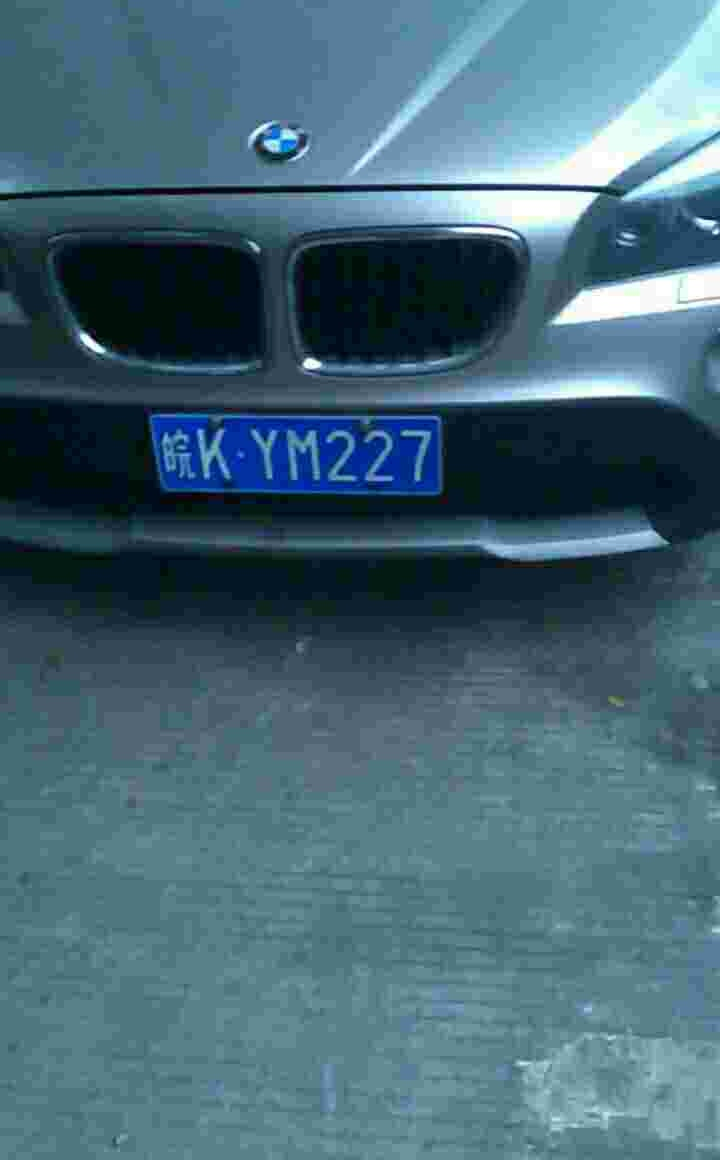license_plate: (159, 411, 459, 498)
